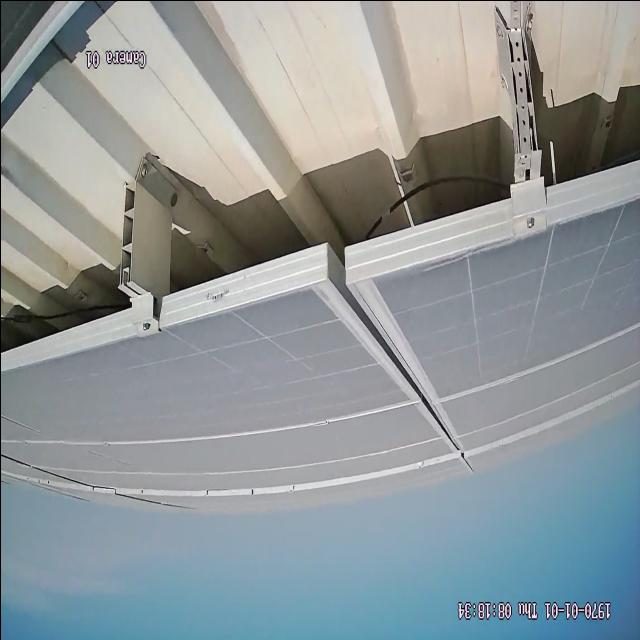interior panel: (308, 283, 465, 445)
outher panel: (0, 0, 640, 371)
